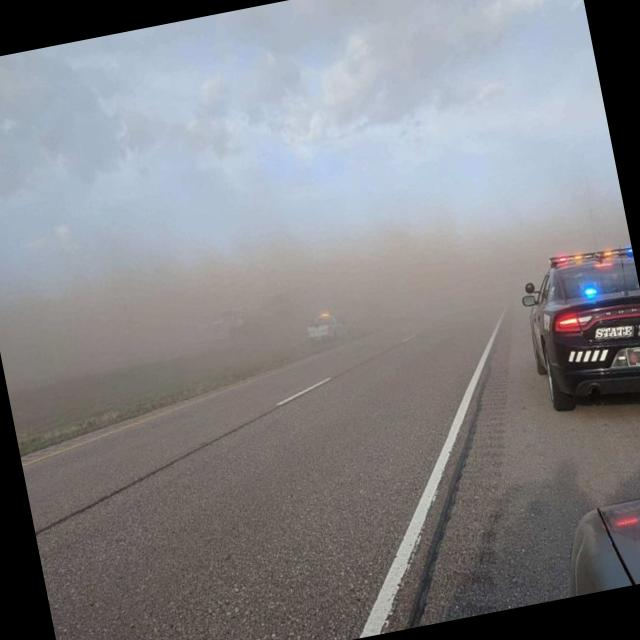car: (511, 242, 640, 436), (304, 308, 352, 349)
